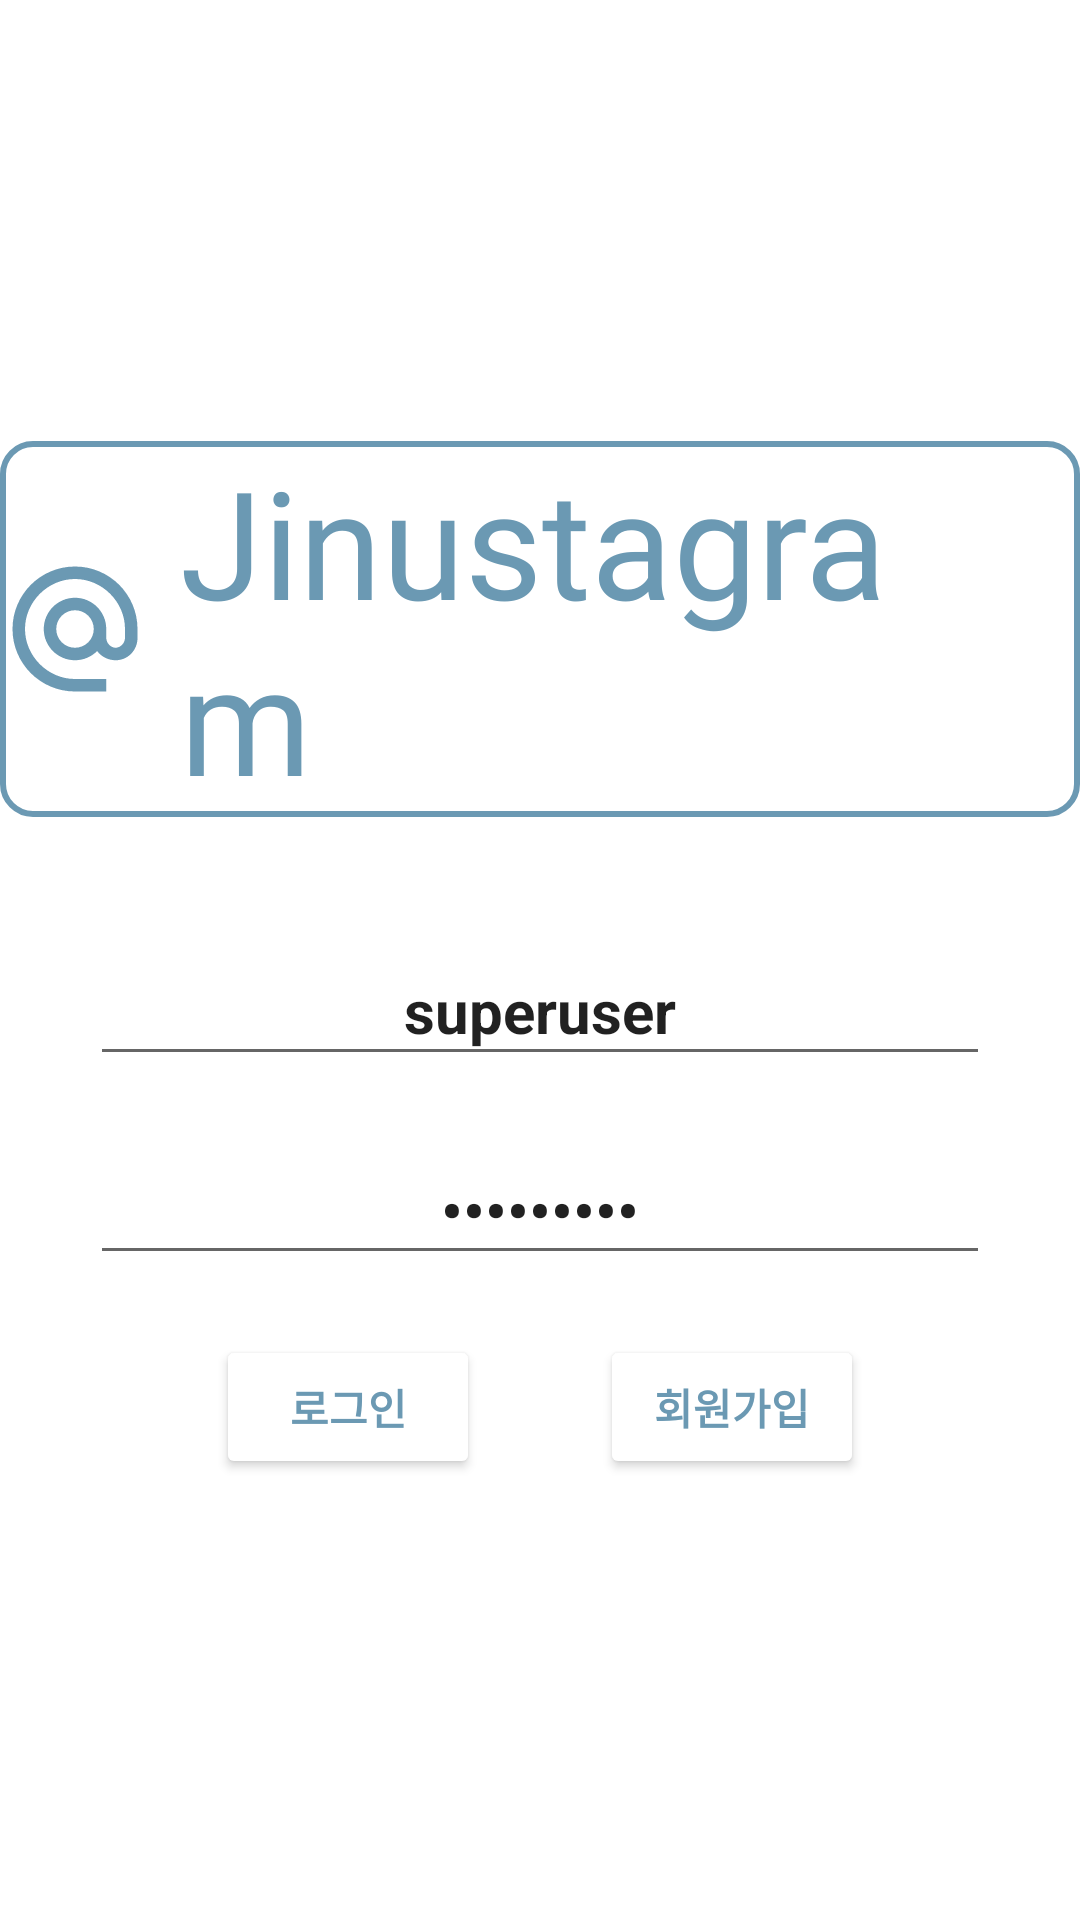

Icon bounding boxes for this 1080px x 1920px phone screenshot, format (x1, y1, x2, y2):
alternate email: (12, 566, 138, 692)
